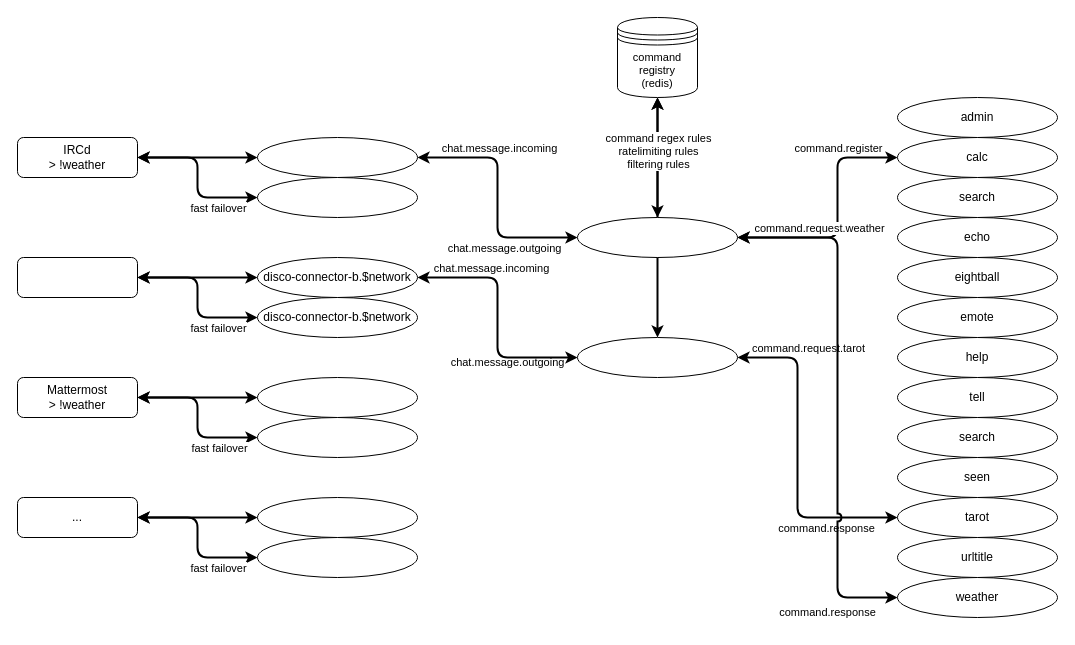
Some shapes in this 1075 by 645 pixel diagram are drawn without their labels. The shapes that lost their labels are listed below. From the top down, each one's box as (x1, y1, x2, y2) in pixels, then its label:
(256, 136, 418, 178): irc-connector-a.$network
(256, 176, 418, 218): irc-connector-b.$network
(576, 216, 738, 258): router-a
(16, 256, 138, 298): Discord > /weather
(576, 336, 738, 378): router-b
(256, 376, 418, 418): mm-connector-a.$network
(256, 416, 418, 458): mm-connector-b.$network
(256, 496, 418, 538): xyz-connector-a.$network
(256, 536, 418, 578): xyz-connector-b.$network
